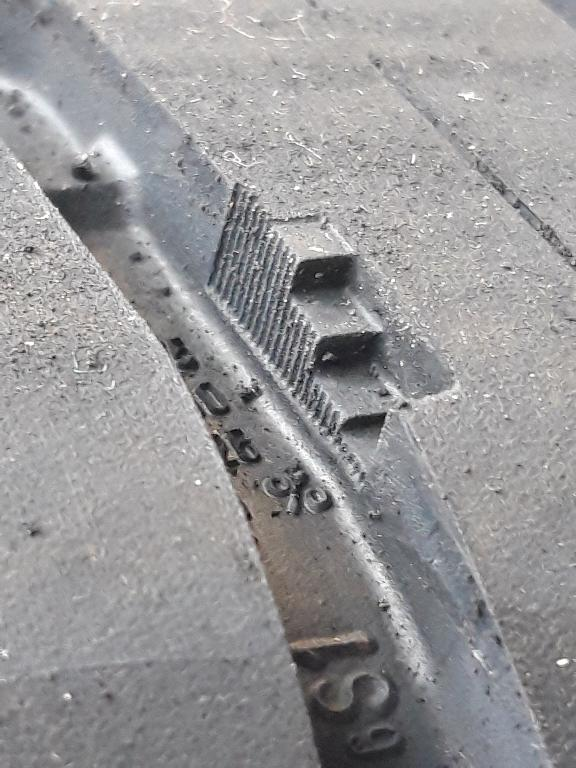temoin:75: (194, 170, 479, 510)
